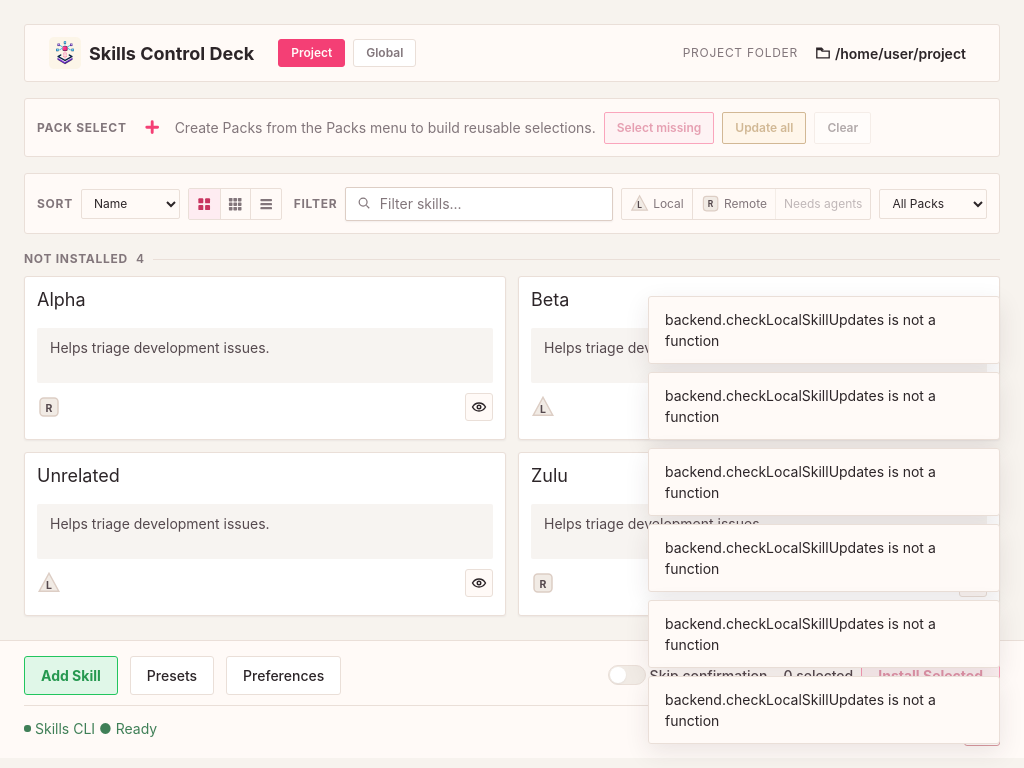
Test: App › Sort by Local/Remote groups skills by source before falling back to name
Select "Local" in the dropdown named "Sort Skills": (131, 204) [81,188,180,219]
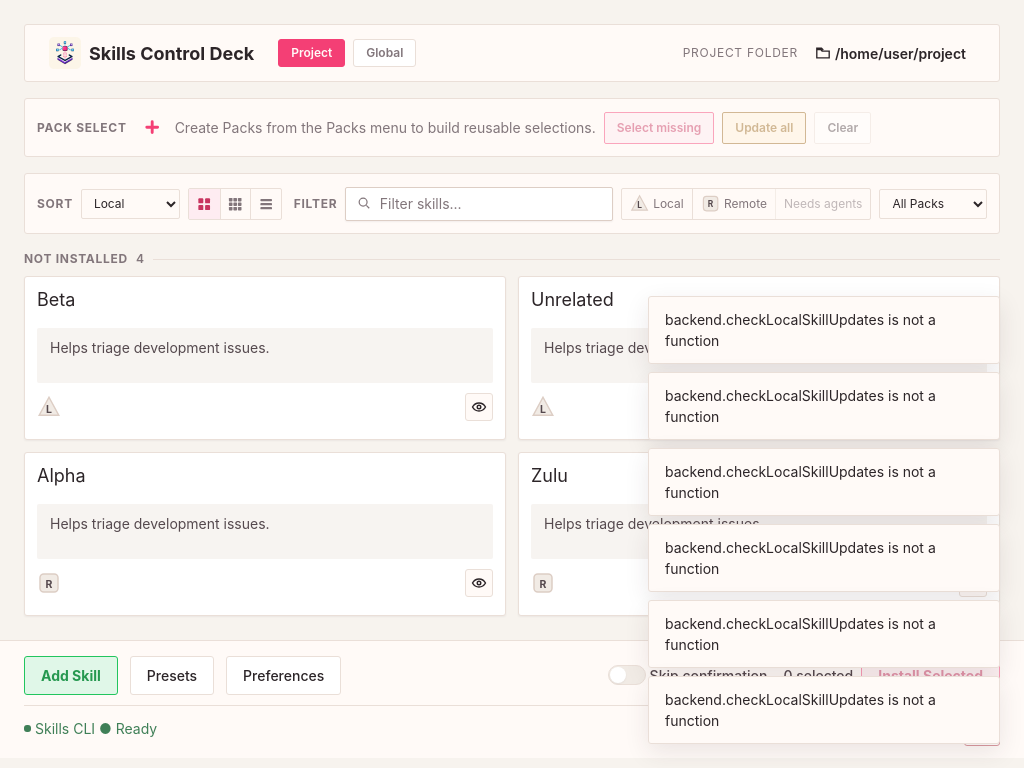
Result: the elements with class "skill-card__title" read "Beta", "Unrelated", "Alpha", "Zulu", in this order at [37,289,75,312]; [531,289,614,312]; [37,465,86,488]; [531,465,568,488]
Select "Remote" in the dropdown named "Sort Skills": (131, 204) [81,188,180,219]
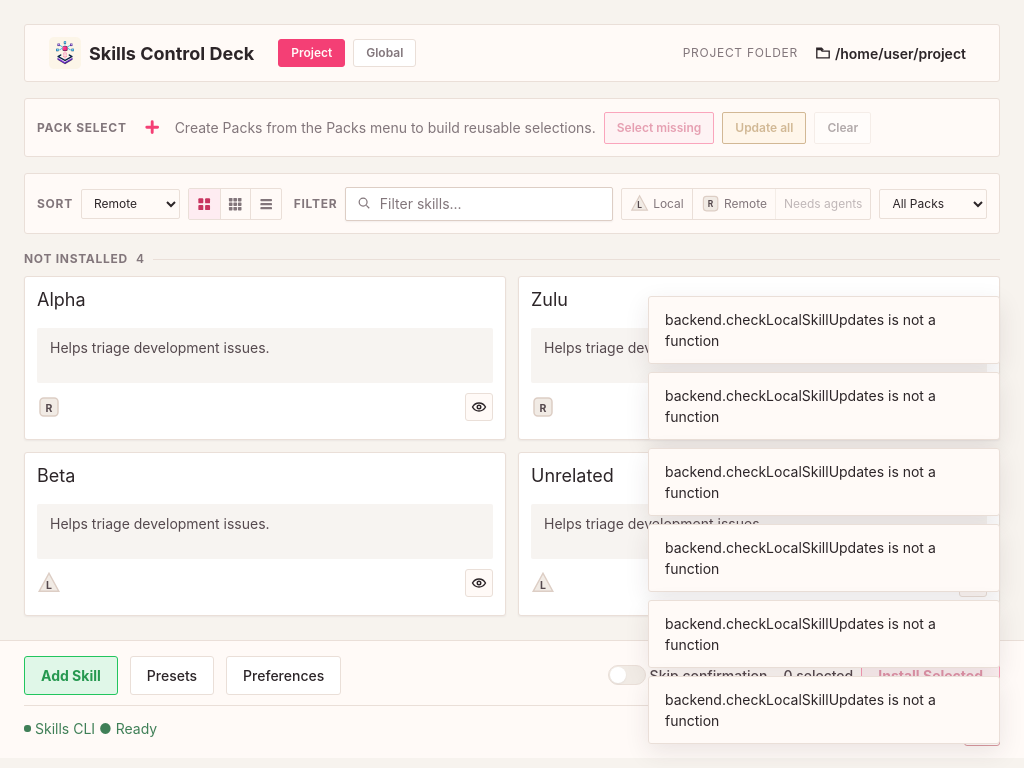
Result: the elements with class "skill-card__title" read "Alpha", "Zulu", "Beta", "Unrelated", in this order at [37,289,86,312]; [531,289,568,312]; [37,465,75,488]; [531,465,614,488]
